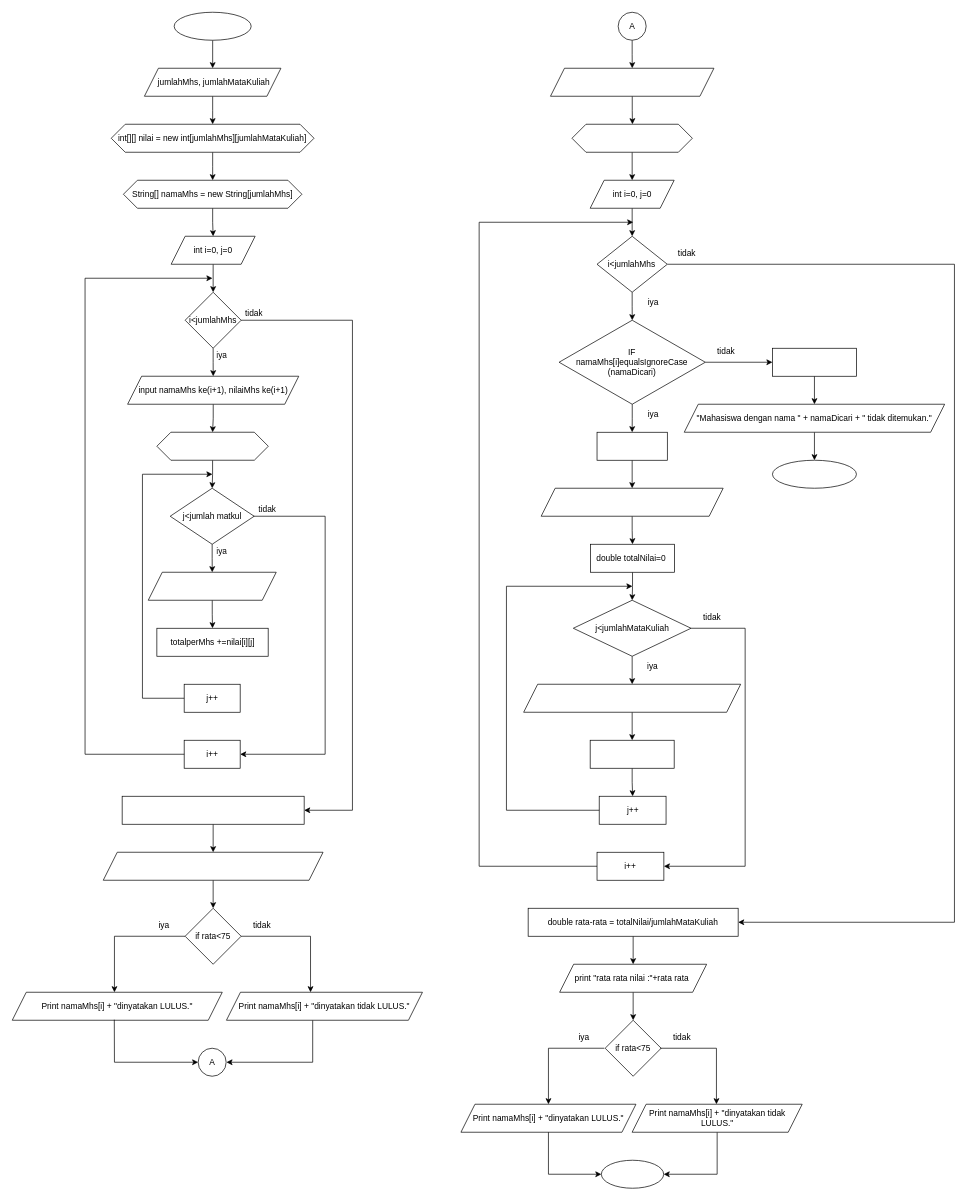
Image size: 972x1201. Some labels were removed from this diagram. The centre of each missing label's shape, as x and y in pixels:
!ditemukan: [814,362]
"Nilai mata kuliah ke-" + (j + 1) + ": " + nilai[i][j]: [632,698]
Break: [632,1174]
ditemukan = true: [631,446]
double rata-rata = totalperMhs / jumlahmatkul: [212,810]
double totalPerMhs = 0: [212,446]
End: [814,474]
input namaMhs yang dicari: [632,82]
input nilai matkul ke(j+1): [212,586]
Print "Data mahasiswa" + namaMhs[i]":": [631,502]
print "rata nilai mahasiswa"+namaMhs[i]:+rata rata: [213,866]
Start: [212,26]
String = namaDicari Bolean ditemukan=false: [631,138]
totalNilai += nilai[i][j];: [631,754]
